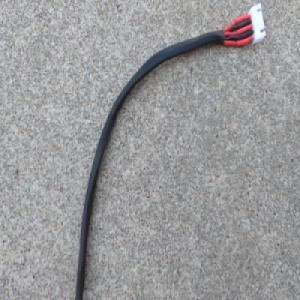Wire: (74, 1, 267, 300)
